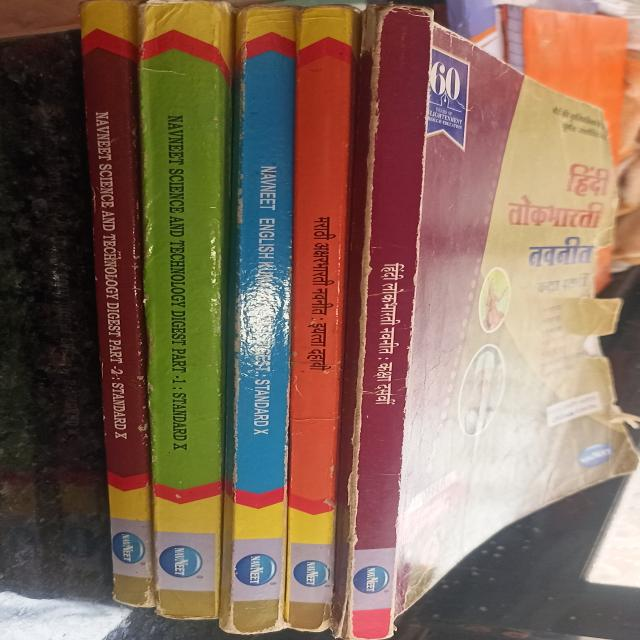book: (142, 5, 224, 618), (230, 0, 294, 611), (83, 0, 144, 592), (286, 3, 344, 625)
